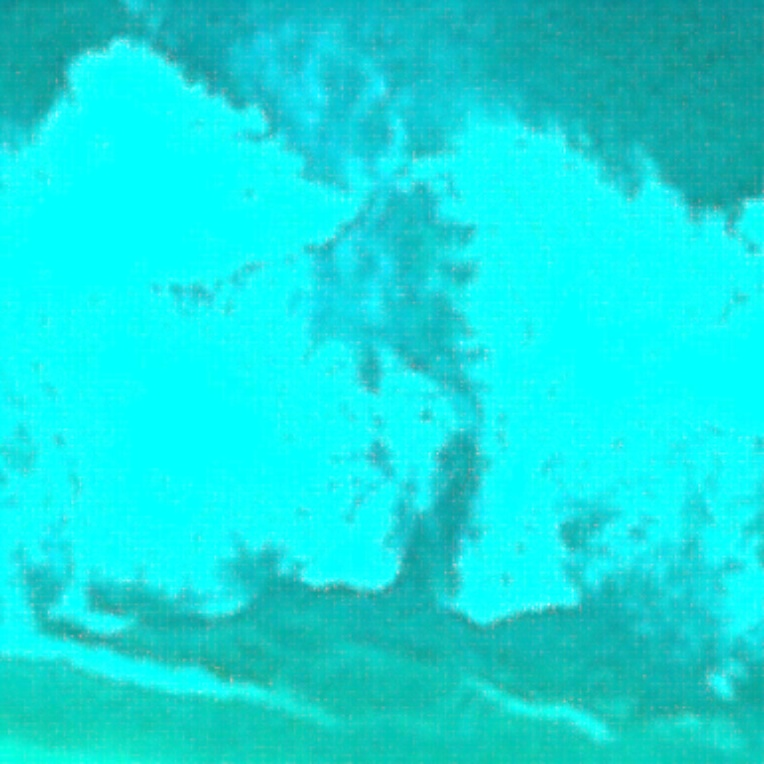rip_current: (193, 88, 559, 612)
